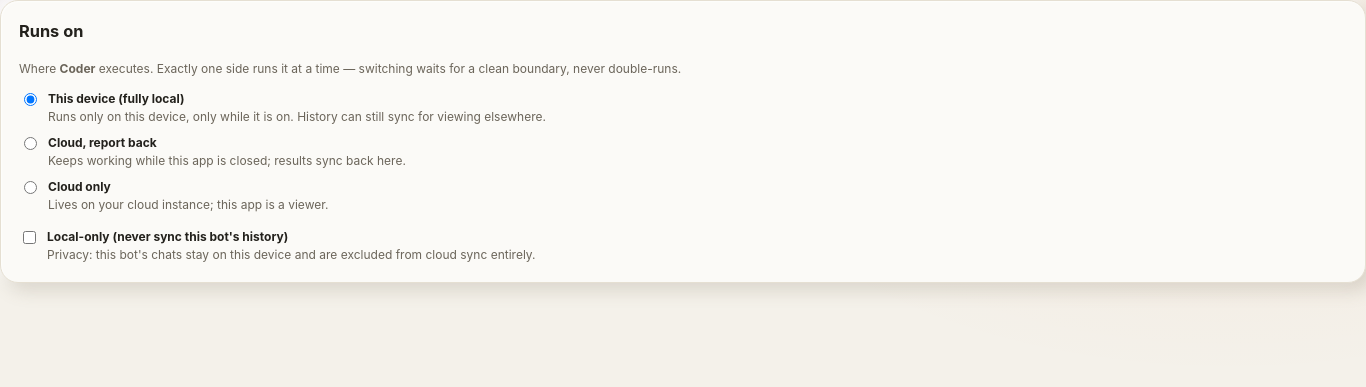
it: BotPlacementPanel › 409 run-in-flight shows the stop-or-wait message and keeps the old placement
The width and height of the screenshot is (1366, 387).
Click the radio button labelled "Cloud, report back". click: (30, 143)
box: [24,137,37,150]
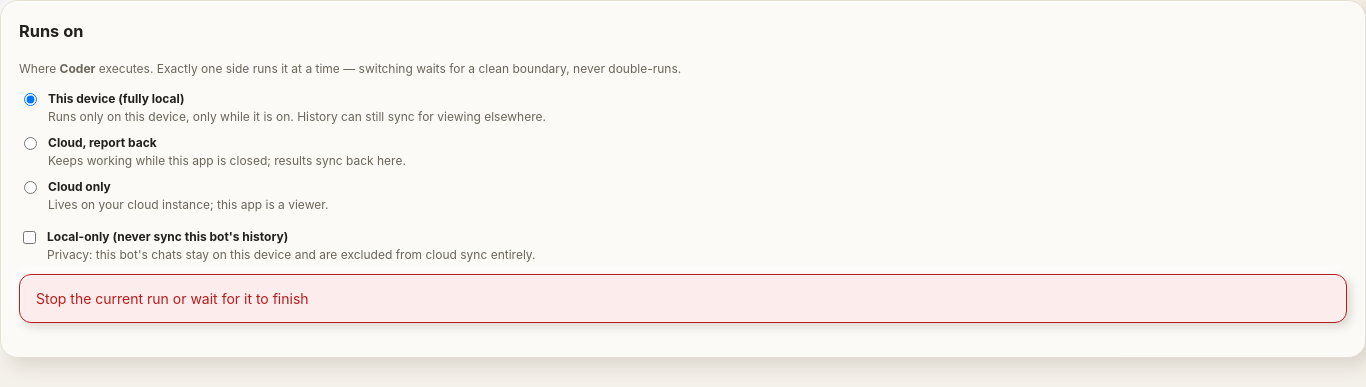
Expected: the radio button labelled "This device" is checked, [24,93,37,106]
Expected: the text "Stop the current run or wait for it to finish" is shown, [19,274,1347,323]
